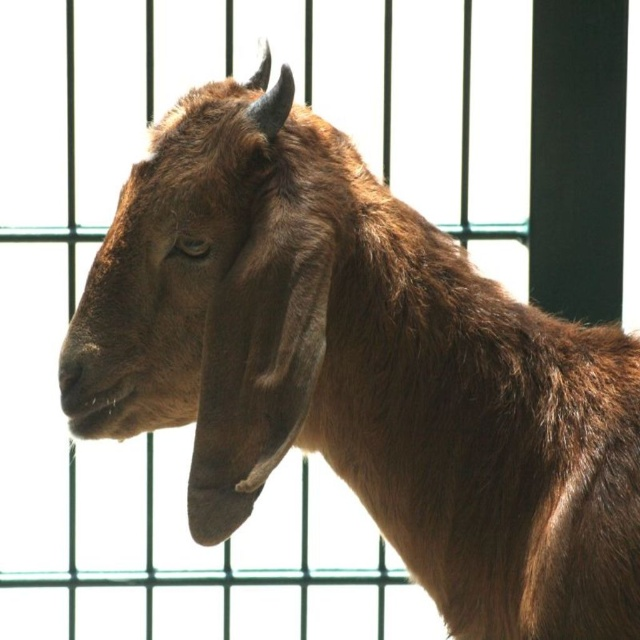Goat: (45, 39, 640, 640)
